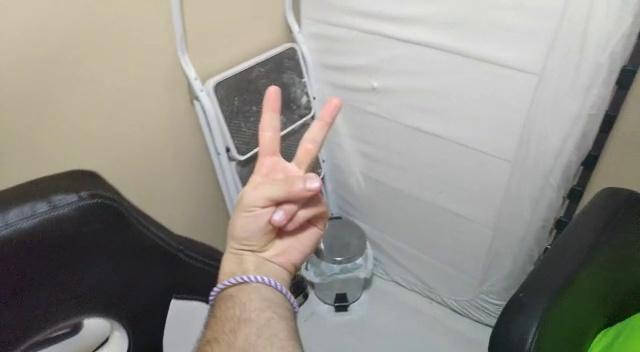Peace: (218, 83, 357, 259)
